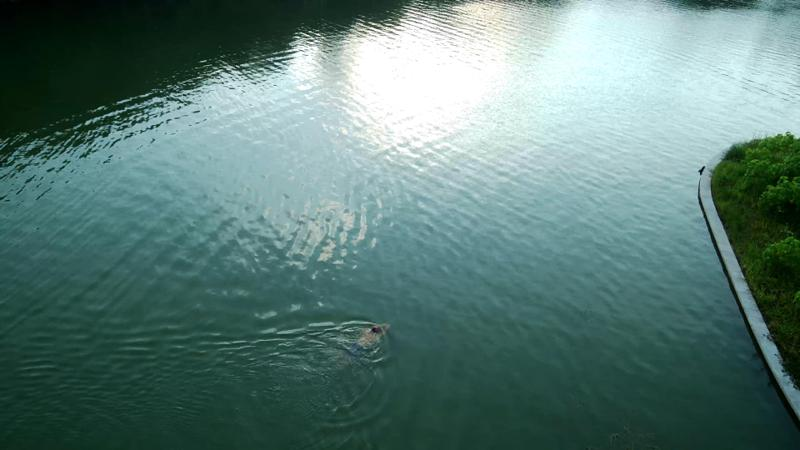swimmers: (346, 322, 391, 355)
